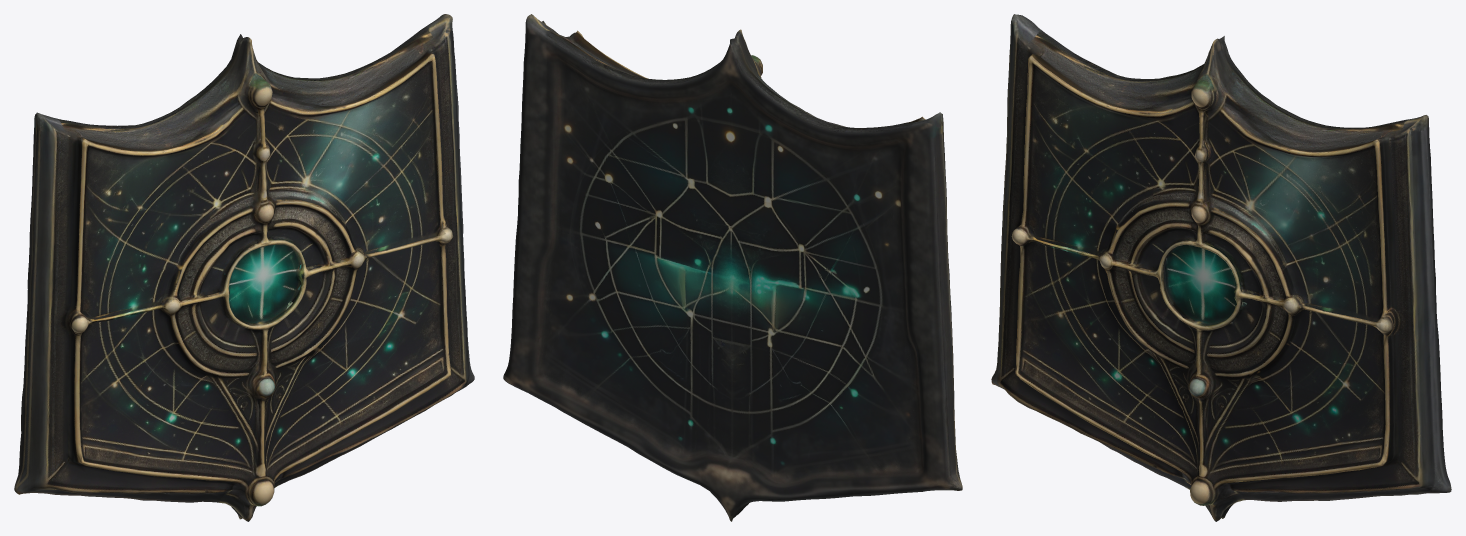
The model's file is cover-alt-2.glb.
3 views of the same model, side by side, from view 1: azimuth 30°, elevation 25°; view 2: azimuth 150°, elevation 25°; view 3: azimuth 330°, elevation 25° (orthographic).
Size of the model in its own units: 1.98 by 2 by 0.2447.
Materials: 1 (1 with a texture image).
